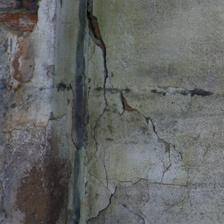Crack: (0, 121, 158, 142), (43, 137, 151, 159), (4, 53, 45, 95), (89, 57, 127, 97)
